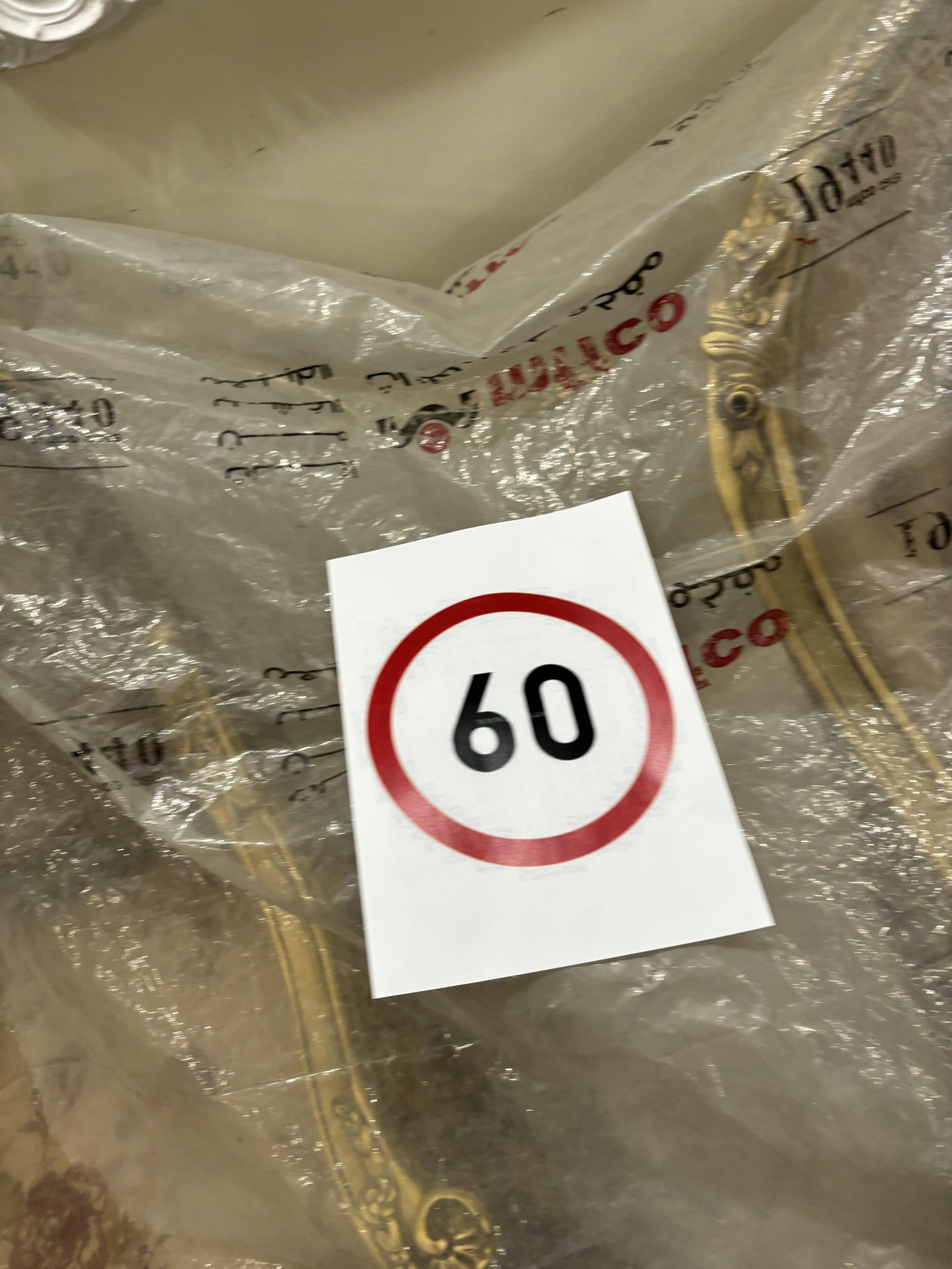60-Speed: (363, 583, 690, 874)
